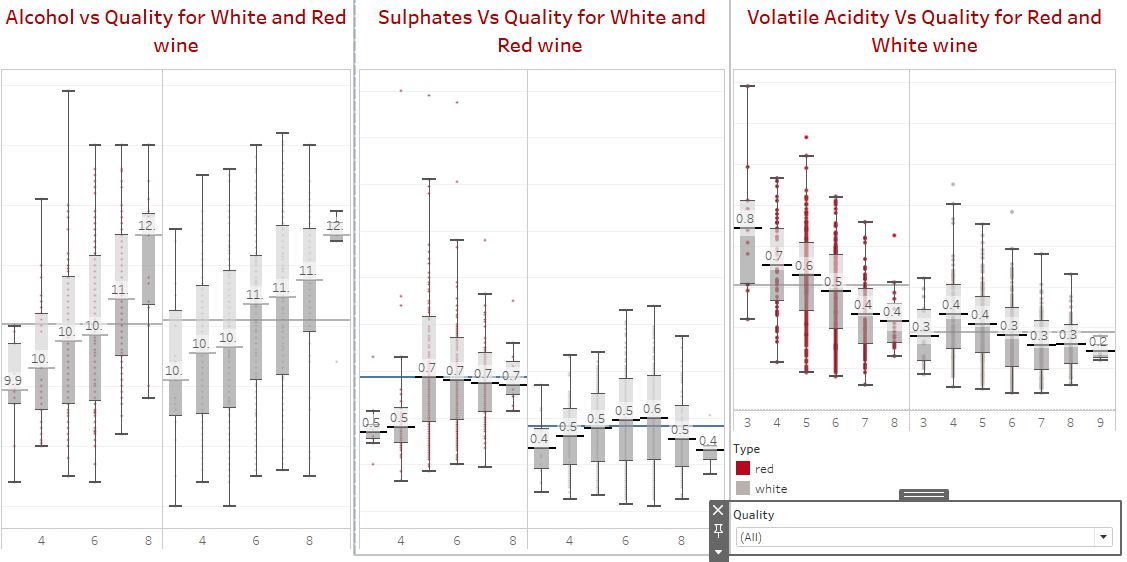

The page's visual inventory and layout, read from the dashboard file:
{"tool":"tableau","page":{"name":"Data trends","canvas":[1000,1000],"units":"permille","ordinal":0},"visuals":[{"type":"worksheet","title":"Alcohol vs Quality","mark":"Circle","rows":["alcohol"],"cols":["type","quality"],"box":[7,13.9,313.9,972.2]},{"type":"worksheet","title":"Sulphates vs Quality","mark":"Circle","rows":["sulphates"],"cols":["type","quality"],"box":[320.9,13.9,328.8,972.2]},{"type":"worksheet","title":"Volatile A cidity vs Quality","mark":"Circle","rows":["volatile acidity"],"cols":["type","quality"],"box":[649.7,13.9,343.3,767.4]},{"type":"legend","title":"Volatile A cidity vs Quality","param":"[federated.1ju37p41tz6ik219ffa2107866c6].[none:type:nk]","box":[649.7,781.2,343.3,114.6]},{"type":"filter","title":"Sulphates vs Quality","param":"[federated.1ju37p41tz6ik219ffa2107866c6].[none:quality:ok]","box":[649.7,895.8,343.3,90.3]}]}

Visuals, with their boxes on the dashboard's canvas, which has no fixed pixel size, in thousandths of its width and height (x1, y1, x2, y2). These are canvas units, not pixel positions in the 1127x562 screenshot, which may show the page scaled, cropped or inside an application window:
"Alcohol vs Quality" worksheet (Circle marks): pyautogui.locateOnScreen(7, 14, 321, 986)
"Sulphates vs Quality" worksheet (Circle marks): pyautogui.locateOnScreen(321, 14, 650, 986)
"Volatile A cidity vs Quality" worksheet (Circle marks): pyautogui.locateOnScreen(650, 14, 993, 781)
"Volatile A cidity vs Quality" legend: pyautogui.locateOnScreen(650, 781, 993, 896)
"Sulphates vs Quality" filter: pyautogui.locateOnScreen(650, 896, 993, 986)
